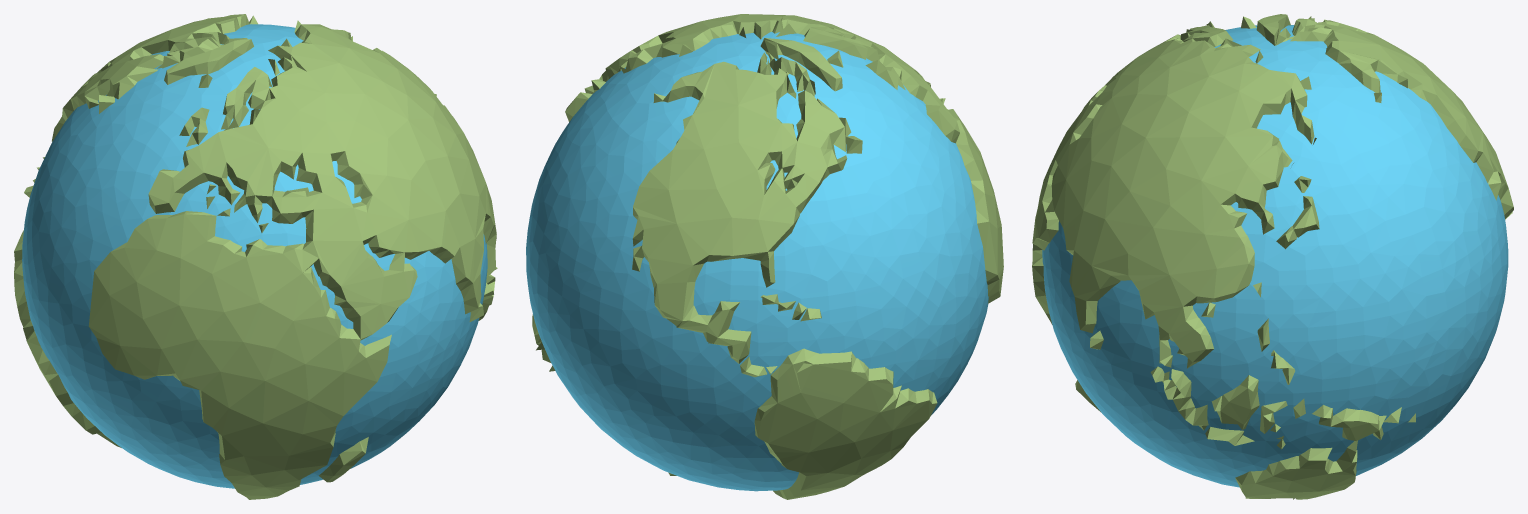
File: Earth.fbx
3 views of the same model, side by side, from view 1: azimuth 30°, elevation 25°; view 2: azimuth 150°, elevation 25°; view 3: azimuth 270°, elevation 25° (orthographic).
Visible parts, largest first — view 1: earth_1; view 2: earth_1; view 3: earth_1.
Part boxes in pixels (x1,y1,x2,y2): earth_1: (14, 14, 497, 499); earth_1: (526, 14, 1003, 499); earth_1: (1032, 14, 1513, 499).
Size of the model in its own units: 206 by 210 by 209.
